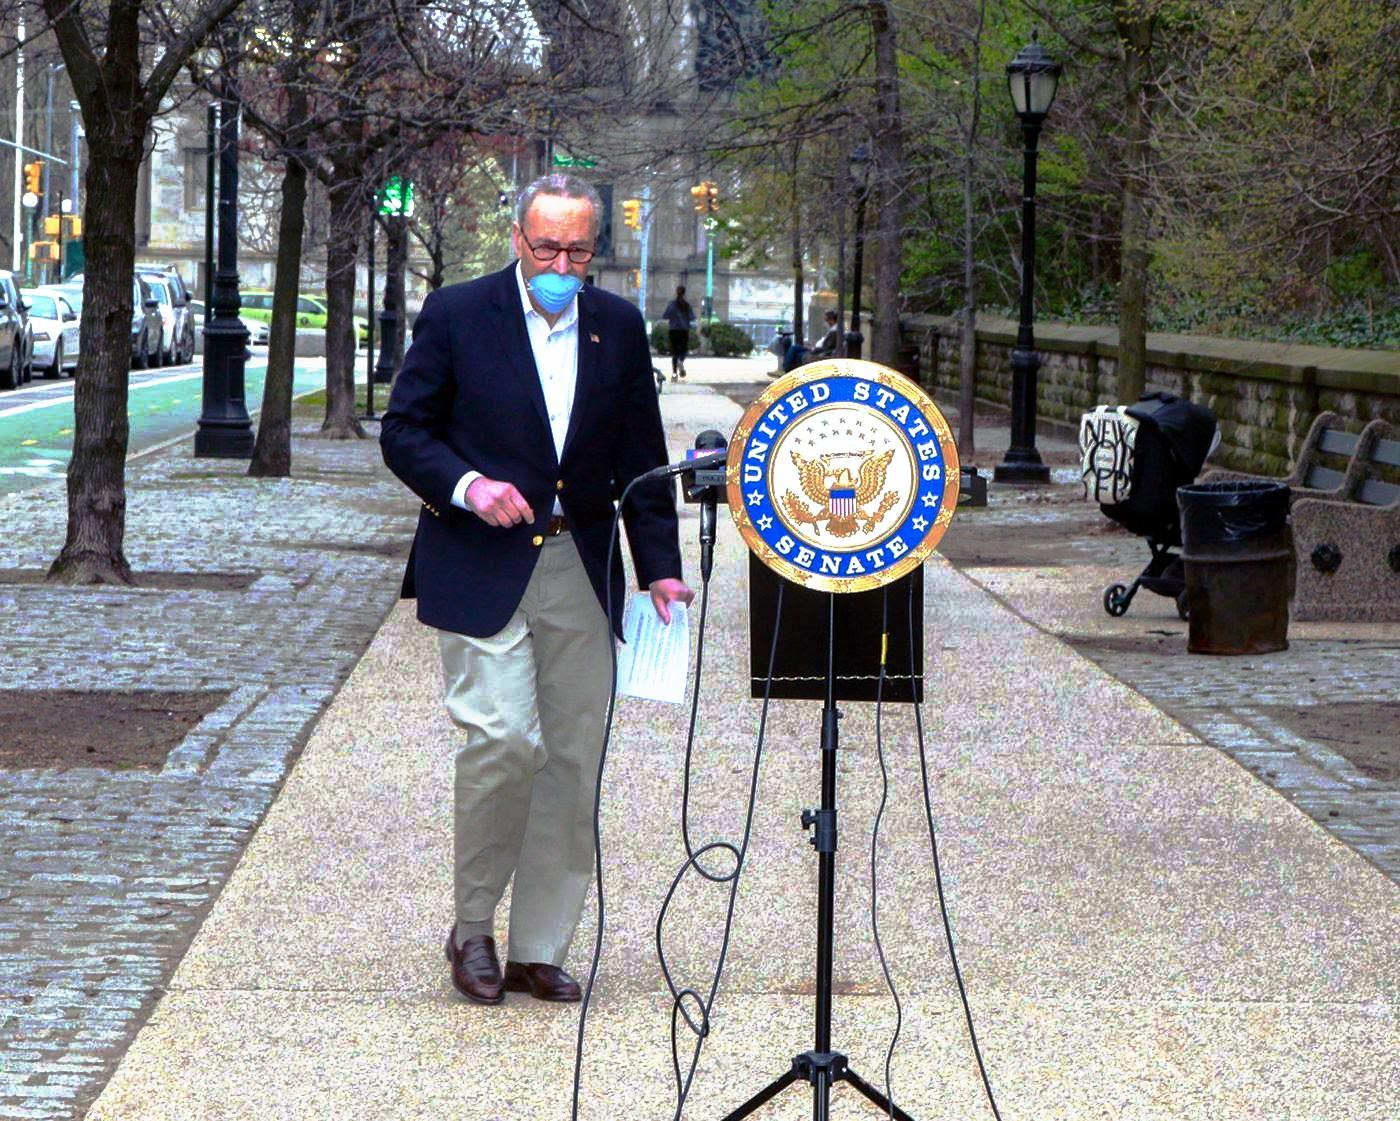mask_weared_incorrect: (509, 172, 605, 319)
